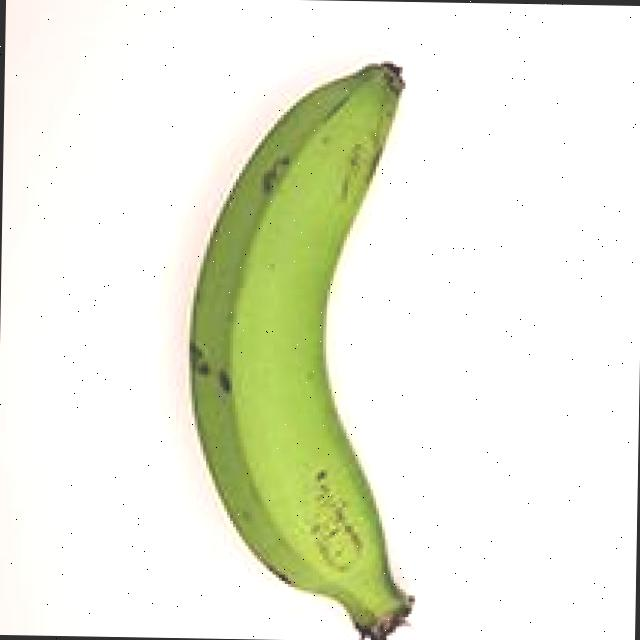Raw: (158, 31, 458, 640)
